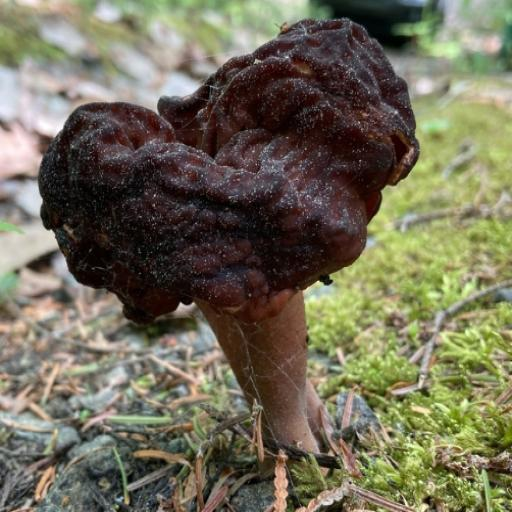mushroom: (36, 16, 421, 356)
